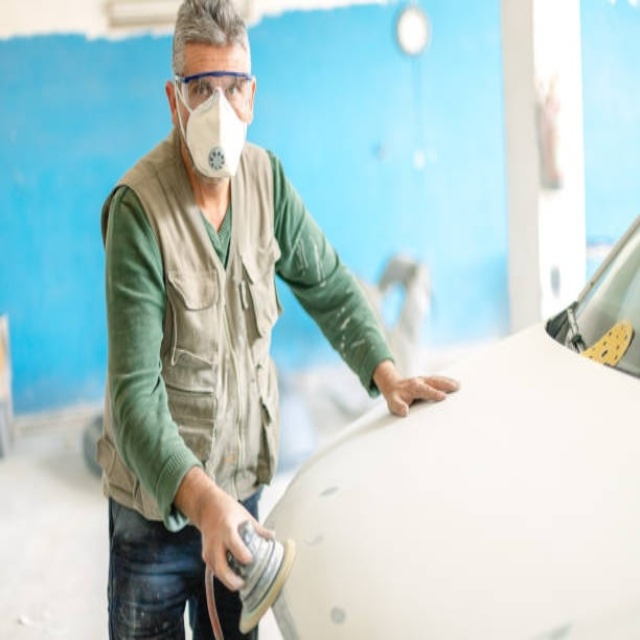Gafas: (176, 70, 255, 106)
Mascara: (176, 79, 248, 181)
Sin_guantes: (197, 488, 272, 597), (380, 369, 460, 418)
